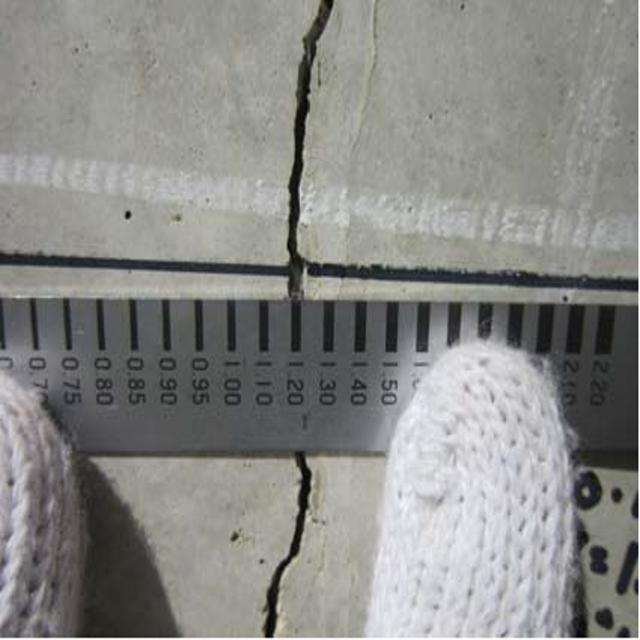crack: (256, 2, 356, 292), (234, 465, 324, 640)
